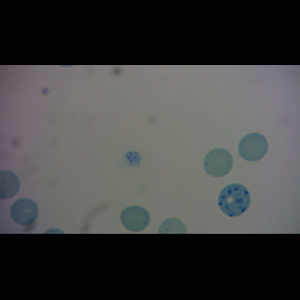aggregate reticulocyte: (216, 182, 252, 218)
erythrocyte: (237, 132, 270, 162), (119, 205, 151, 233), (9, 197, 39, 226)
punctate reticulocyte: (203, 147, 234, 179)
